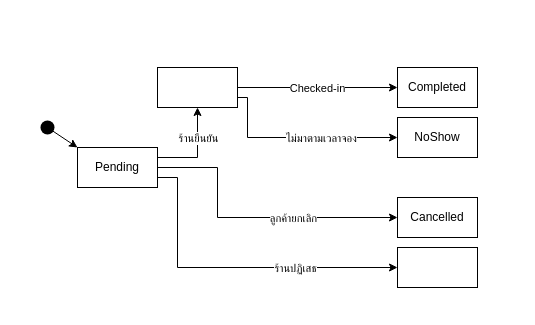
Some shapes in this 535 by 325 pixel diagram are drawn without their labels. Here are the shapes that lost their labels. From the top down, the box of each, then its label:
(156, 66, 238, 108): Confirmed
(396, 246, 478, 288): Rejected
